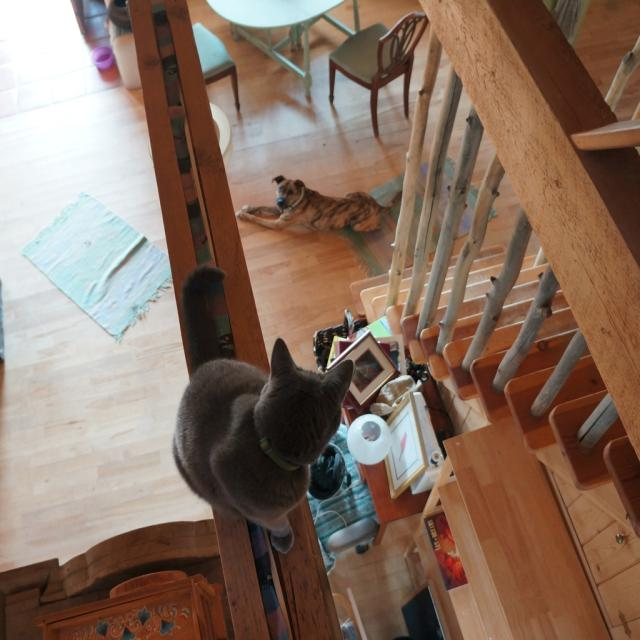Cat: (168, 257, 356, 559)
